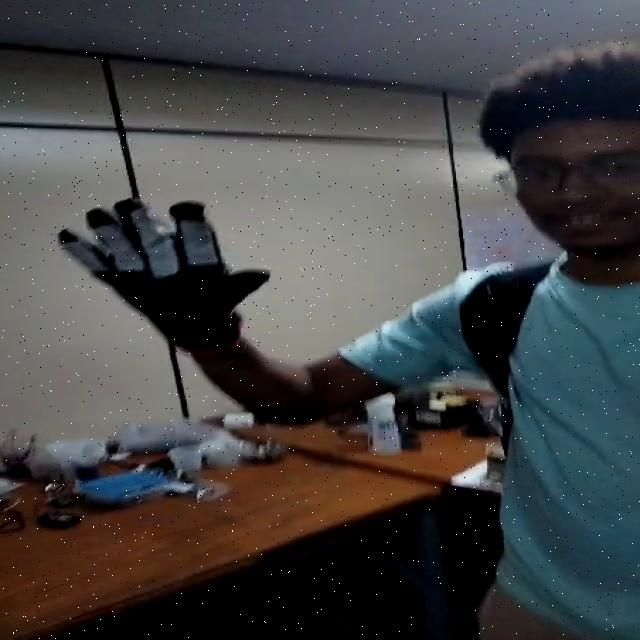Gloves: (57, 198, 266, 353)
